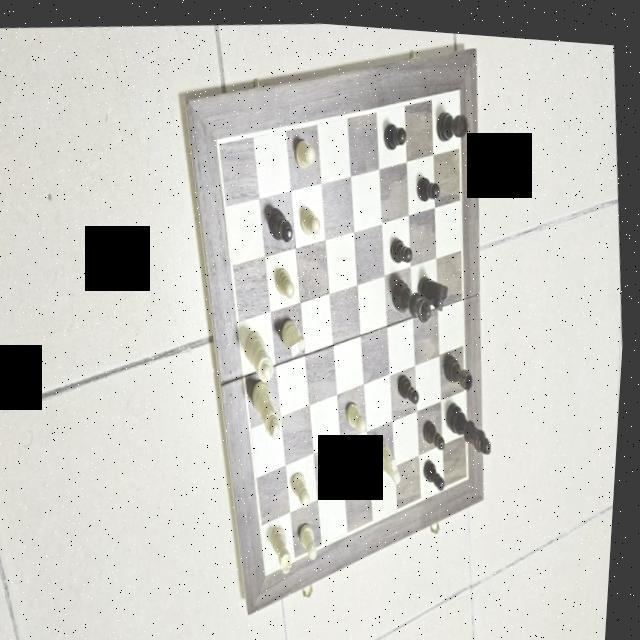chess-table-corners: (211, 124, 227, 150), (268, 552, 279, 576), (453, 70, 464, 94), (468, 459, 478, 477)
